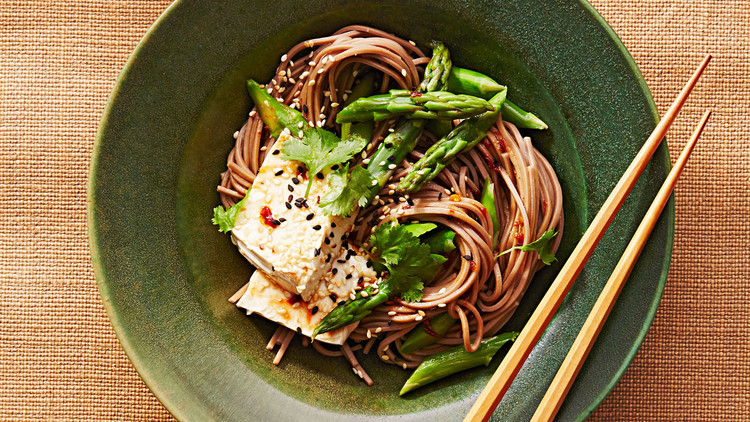Soba: (220, 25, 567, 371)
